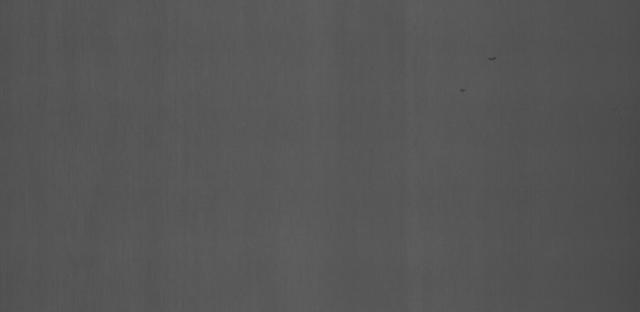inclusion: (476, 44, 505, 62), (448, 77, 474, 95)
